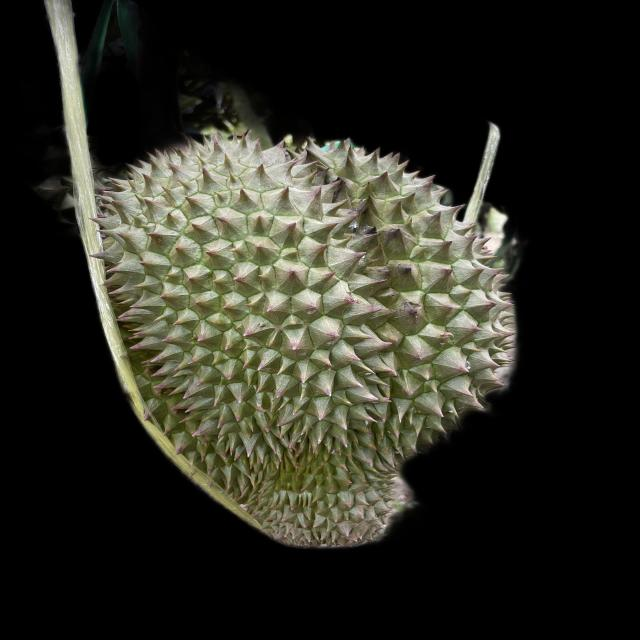immature: (102, 133, 521, 546)
